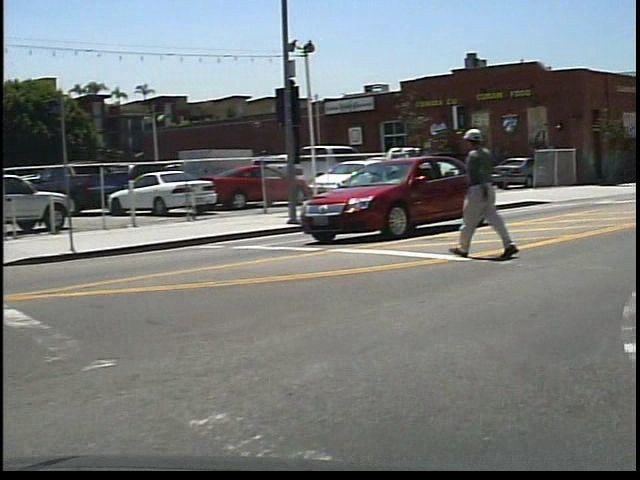person: (461, 115, 525, 267)
